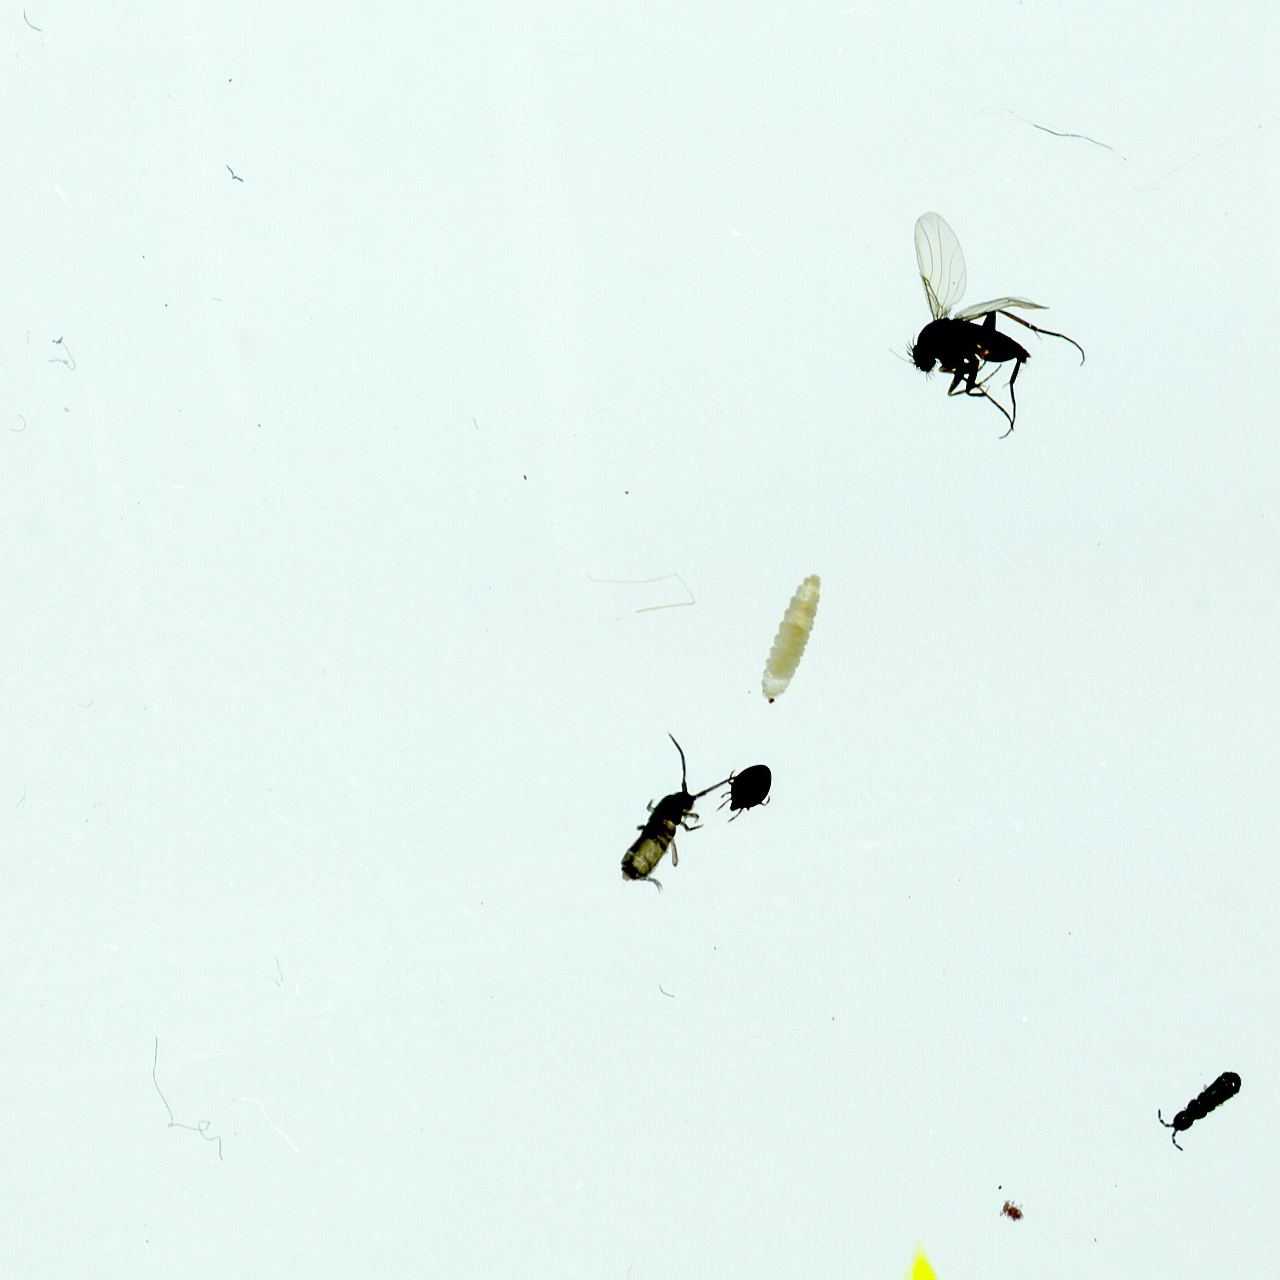arthropod: (869, 196, 1092, 447), (600, 722, 750, 912), (730, 559, 849, 710), (1144, 1051, 1266, 1162), (713, 757, 779, 829), (898, 1257, 1008, 1280)
